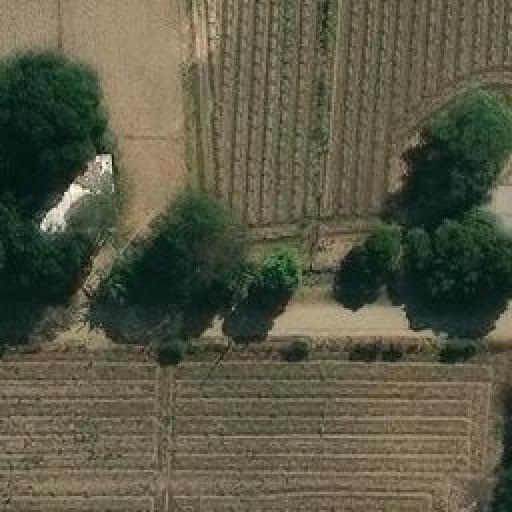manzanas: (25, 144, 116, 253)
